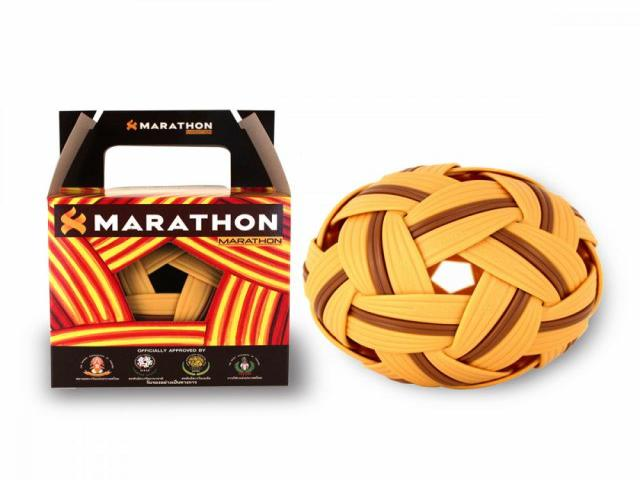round ball: (304, 164, 602, 388)
